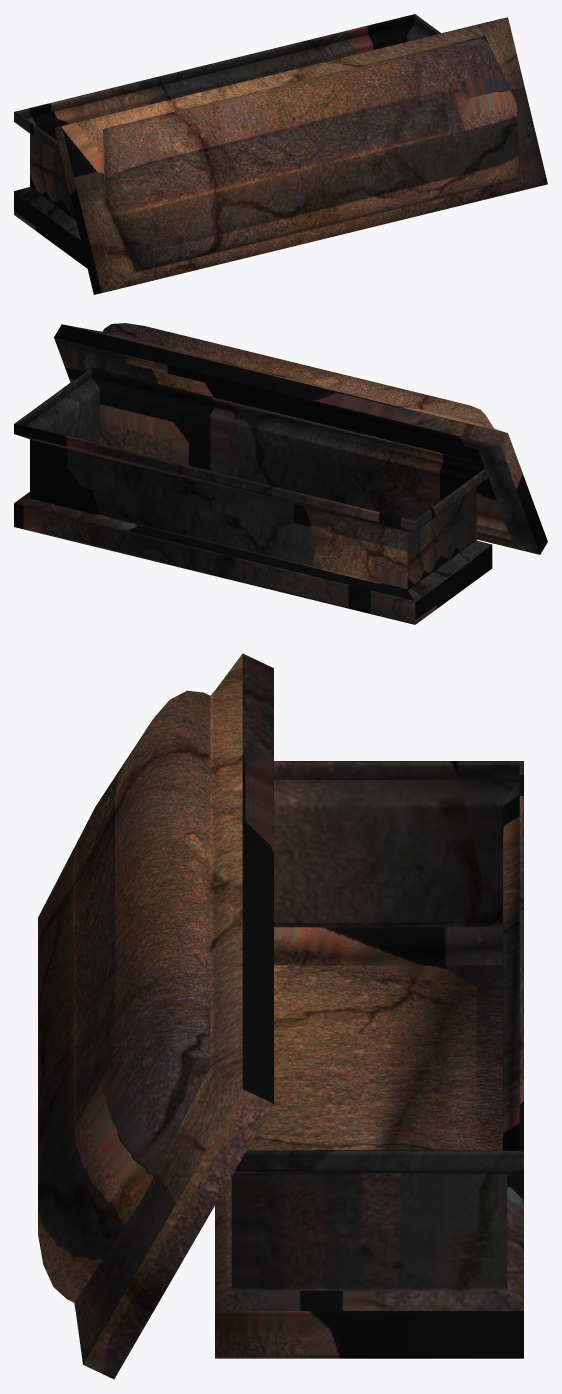
Rendered from coffin_openlid.fbx.
3 renders of one model, top to bottom at view 1: azimuth 30°, elevation 25°; view 2: azimuth 150°, elevation 25°; view 3: azimuth 270°, elevation 25°, orthographic. The views are drawn at different scales.
Parts seen in each view (by area): view 1: ofoofinwolid.003; view 2: ofoofinwolid.003; view 3: ofoofinwolid.003.
Part boxes in pixels (box(x1,y1,x2,y2)): ofoofinwolid.003: box(14, 14, 547, 294); ofoofinwolid.003: box(14, 323, 547, 624); ofoofinwolid.003: box(38, 653, 523, 1379).
Bounding box in the file's own units: 334 × 104 × 157.
